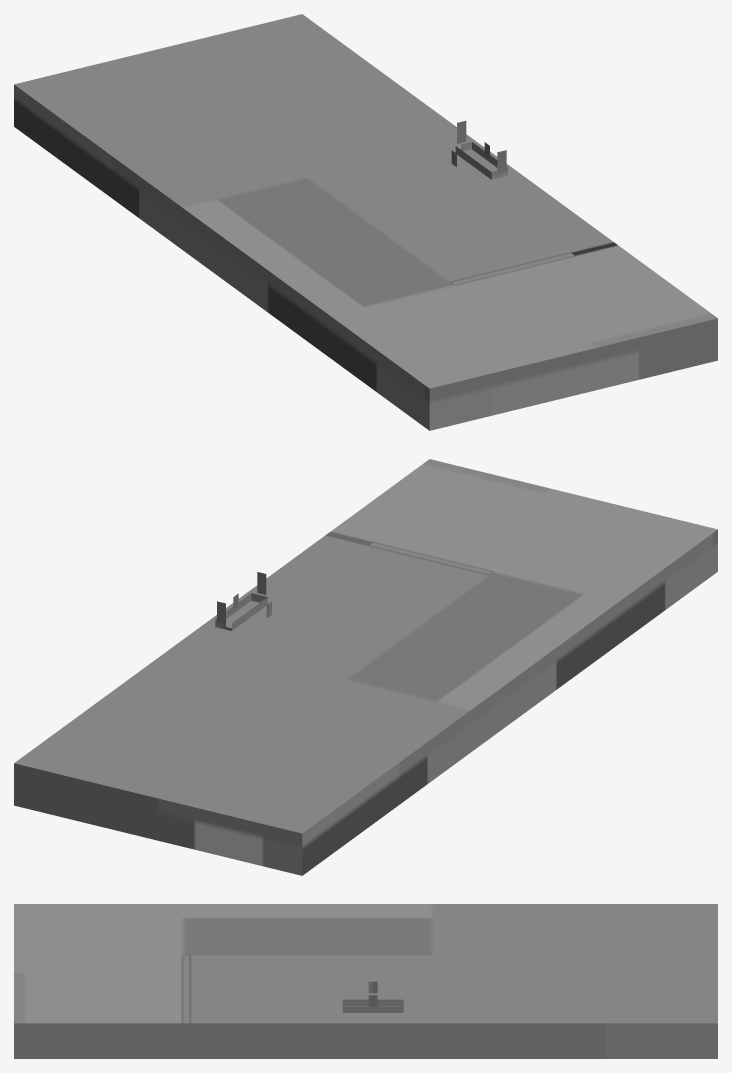
3 views of the same model, one above another, from view 1: azimuth 30°, elevation 25°; view 2: azimuth 150°, elevation 25°; view 3: azimuth 270°, elevation 25° (orthographic). The views are drawn at different scales.
Size of the model in its own units: 0.785 by 0.1945 by 1.96.
